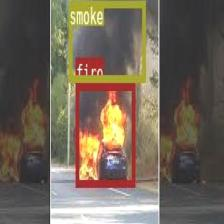fire: (75, 82, 135, 186)
smoke: (68, 0, 145, 81)
